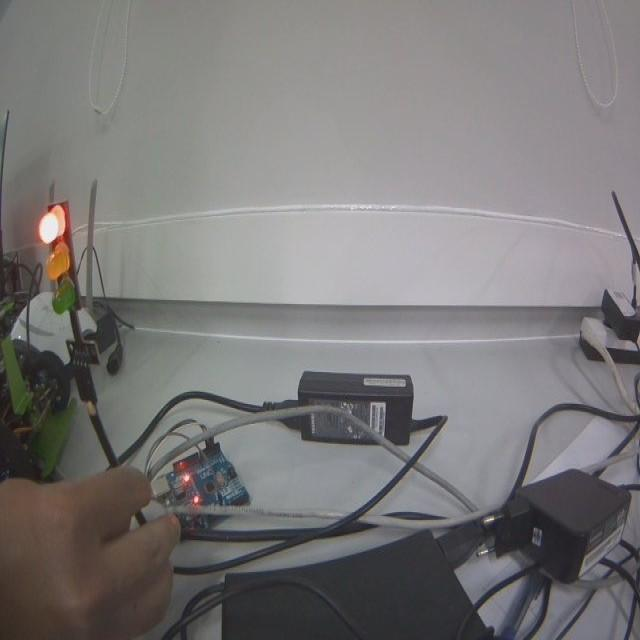Lampu Merah: (43, 197, 80, 303)
